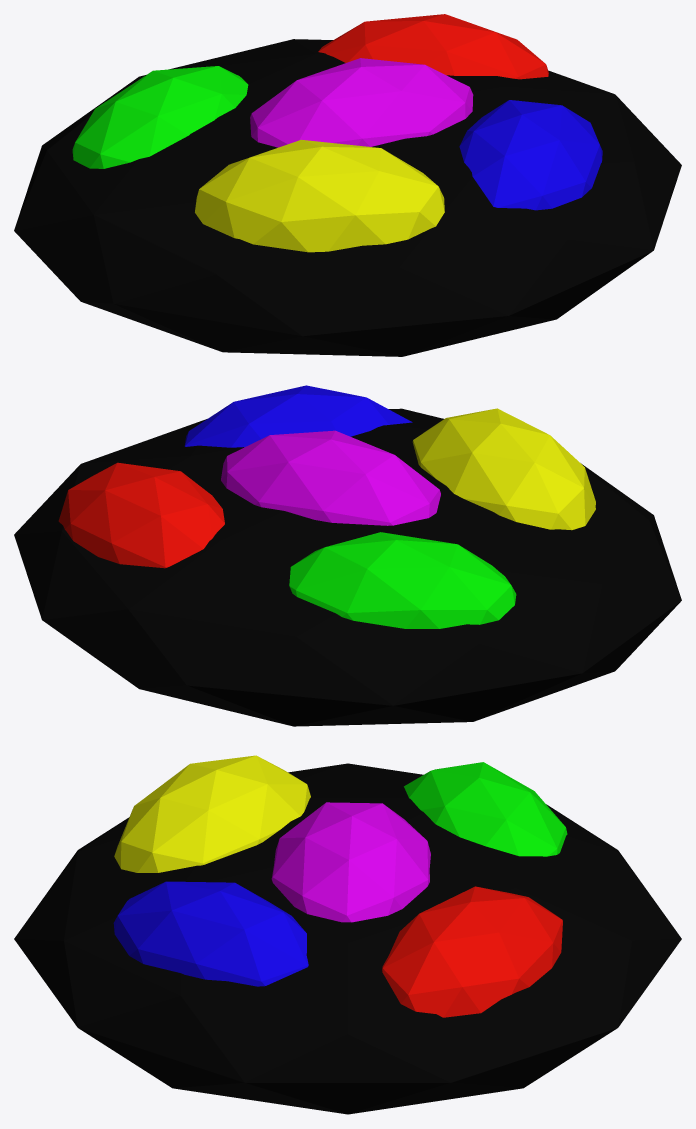
The model's file is simon.fbx.
3 renders of one model, top to bottom at view 1: azimuth 30°, elevation 25°; view 2: azimuth 150°, elevation 25°; view 3: azimuth 270°, elevation 25°, orthographic. The views are drawn at different scales.
Parts seen in each view (by area): view 1: Icosphere.004, Icosphere.003, Icosphere.005, Icosphere.002, Icosphere, Icosphere.001; view 2: Icosphere.004, Icosphere, Icosphere.005, Icosphere.003, Icosphere.001, Icosphere.002; view 3: Icosphere.004, Icosphere.001, Icosphere.002, Icosphere.003, Icosphere.005, Icosphere.
Boxes of the visible parts, x1=… form: Icosphere.004: x1=14, y1=39, x2=681, y2=356; Icosphere.003: x1=195, y1=139, x2=444, y2=252; Icosphere.005: x1=250, y1=58, x2=473, y2=147; Icosphere.002: x1=459, y1=100, x2=602, y2=210; Icosphere: x1=72, y1=66, x2=248, y2=168; Icosphere.001: x1=318, y1=14, x2=548, y2=79; Icosphere.004: x1=14, y1=408, x2=681, y2=726; Icosphere: x1=289, y1=532, x2=516, y2=628; Icosphere.005: x1=221, y1=430, x2=440, y2=525; Icosphere.003: x1=412, y1=408, x2=595, y2=530; Icosphere.001: x1=58, y1=462, x2=224, y2=568; Icosphere.002: x1=184, y1=385, x2=412, y2=447; Icosphere.004: x1=14, y1=763, x2=681, y2=1114; Icosphere.001: x1=382, y1=886, x2=562, y2=1017; Icosphere.002: x1=113, y1=881, x2=308, y2=986; Icosphere.003: x1=114, y1=755, x2=310, y2=872; Icosphere.005: x1=271, y1=802, x2=430, y2=922; Icosphere: x1=404, y1=762, x2=567, y2=856.
Bounding box in the file's own units: 744 × 265 × 730.
